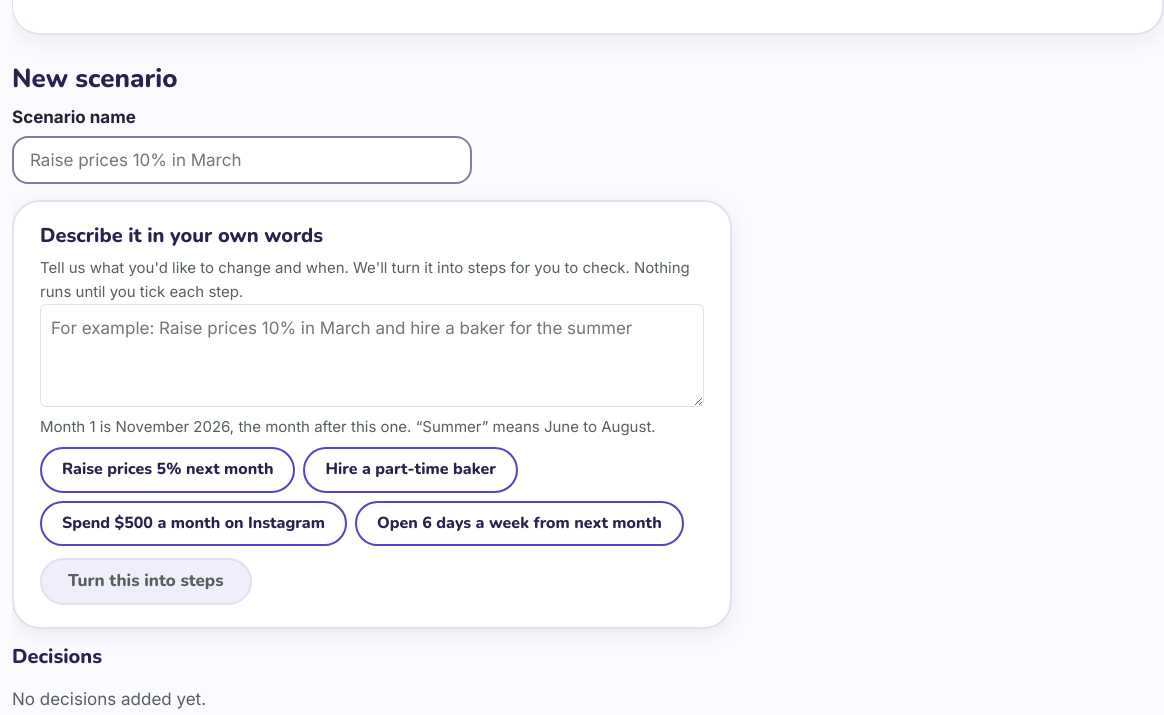
ScenarioBuilderPage: describe it in your own words › Confirm all › shows 'N steps · M confirmed' and confirms every step with one click
(page scrolled)
Type "Raise prices 10% in March and hire a baker for the summer" into the text box named "What would you like to change?" at (372, 355), box [40, 304, 704, 407]
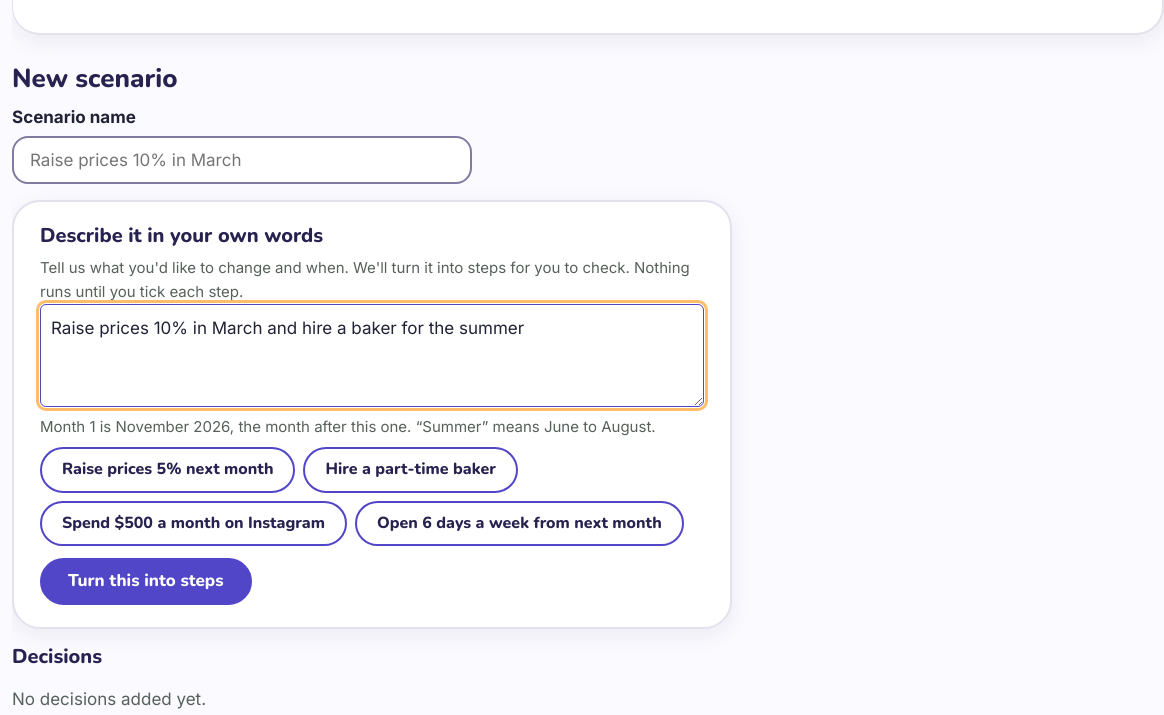
Click the button "Turn this into steps" at (146, 582), box [40, 558, 252, 605]
(page scrolled)
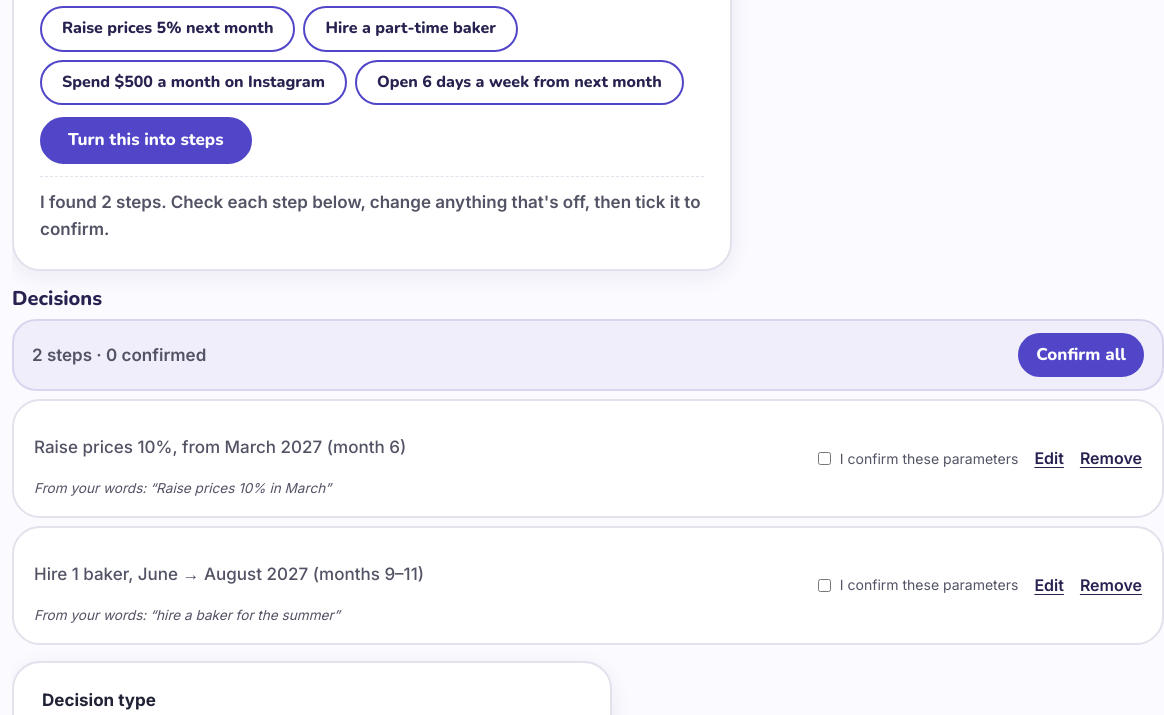
Now the text "I found 2 steps" is shown, box [40, 192, 166, 212]
Now the text "2 steps · 0 confirmed" is shown, box [32, 342, 206, 369]
Click the button "Confirm all" at (1081, 355), box [1018, 333, 1144, 377]
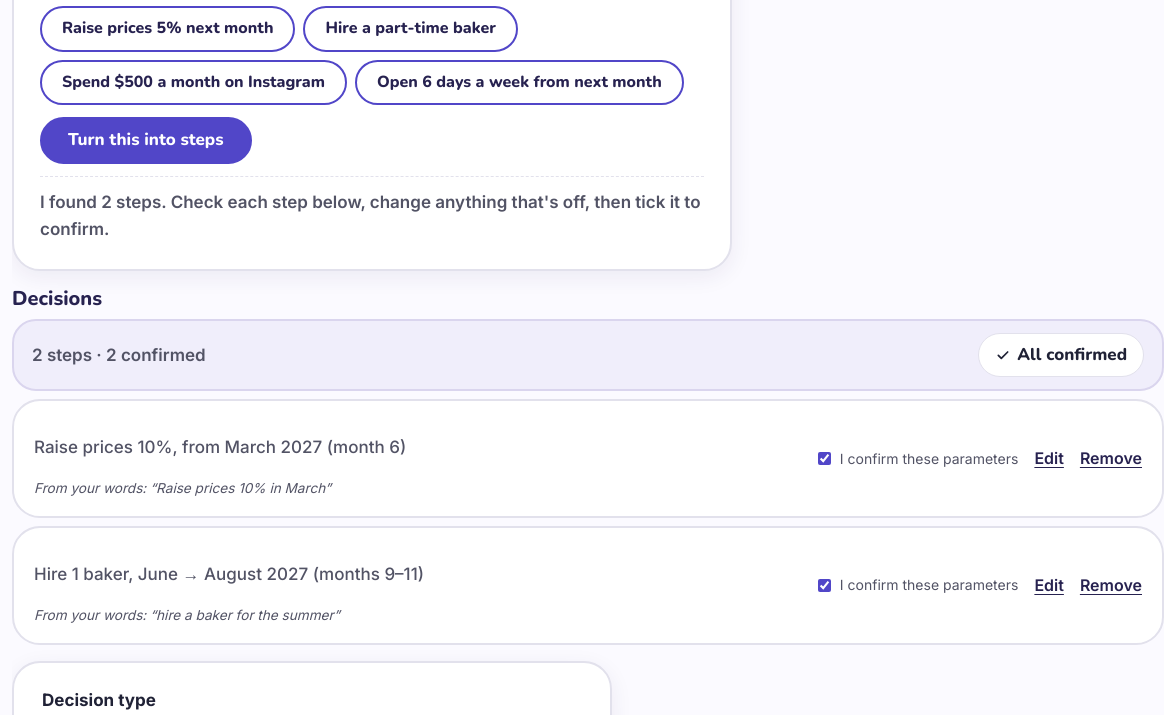
Now the text "2 steps · 2 confirmed" is shown, box [32, 342, 206, 369]
Now the button "All confirmed" is shown, box [978, 333, 1144, 377]
